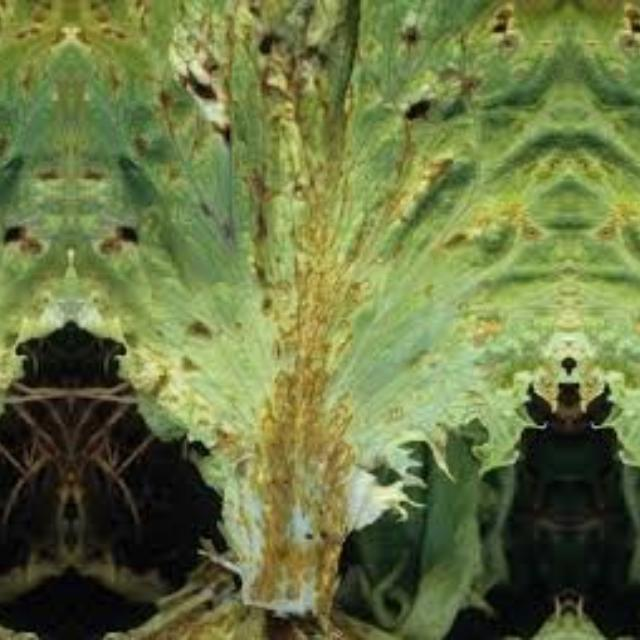Downy_mildew: (78, 0, 564, 594), (574, 0, 640, 594), (0, 0, 62, 594)
